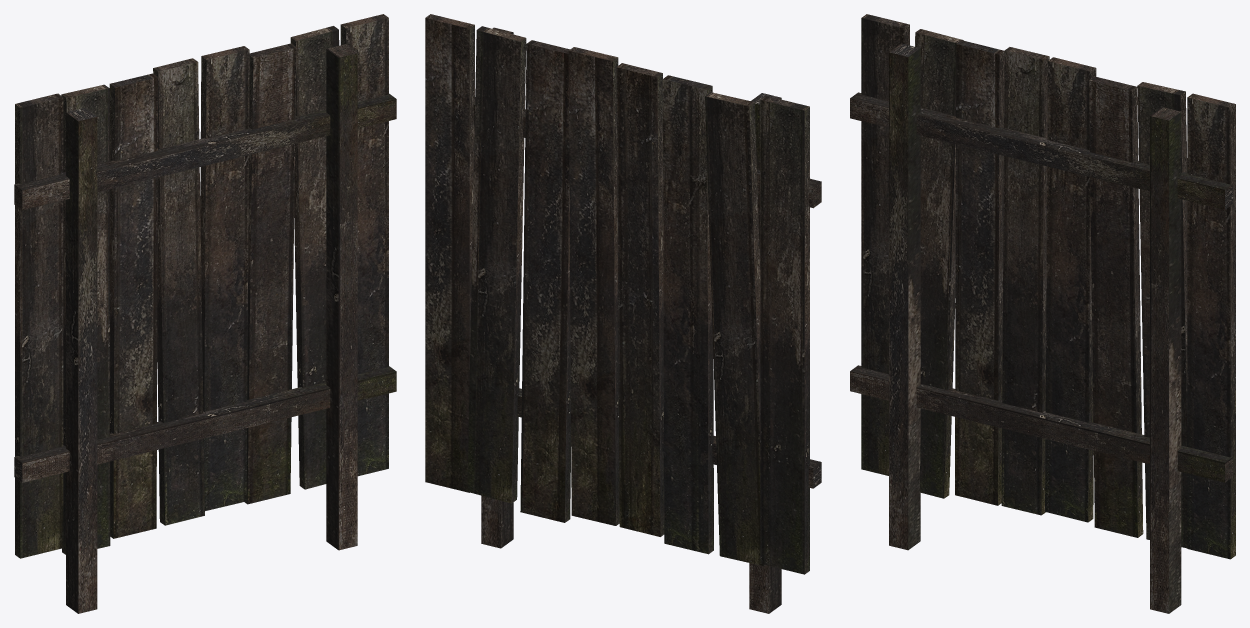
File: WoodenFence_1.fbx
The picture shows the model from 3 angles, left to right: view 1: azimuth 30°, elevation 25°; view 2: azimuth 150°, elevation 25°; view 3: azimuth 330°, elevation 25°; orthographic projection. The views are drawn at different scales.
Parts seen in each view (by area): view 1: WoodenFence_1; view 2: WoodenFence_1; view 3: WoodenFence_1.
Part boxes in pixels (bbox=[...]): WoodenFence_1: bbox=[14, 14, 396, 613]; WoodenFence_1: bbox=[425, 14, 821, 613]; WoodenFence_1: bbox=[850, 14, 1235, 613].
Size of the model in its own units: 174 by 225 by 19.44.
